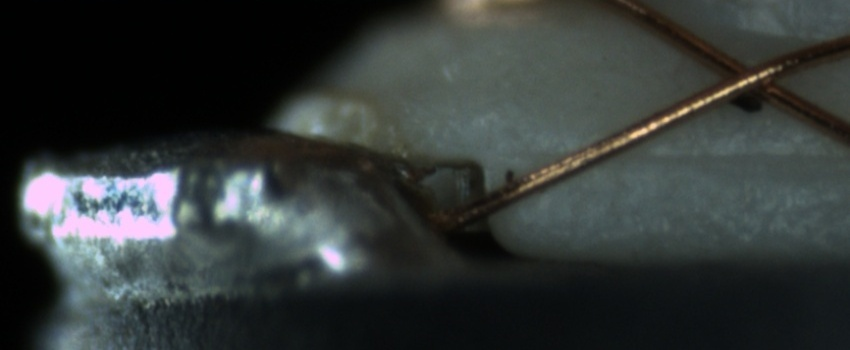CL: (682, 40, 811, 113)
DL: (530, 124, 847, 188)
